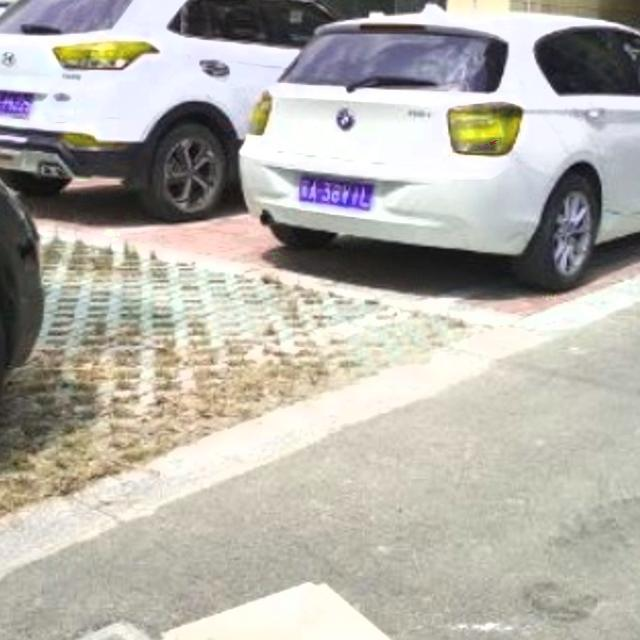broke: (0, 611, 589, 640)
